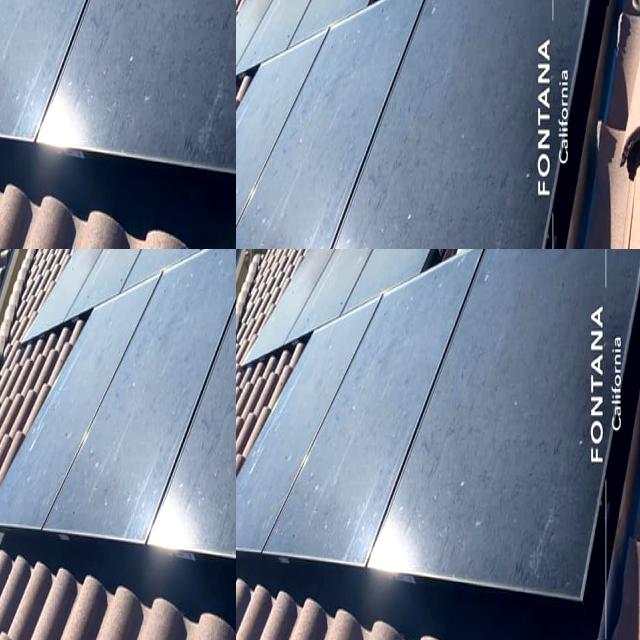dust: (489, 249, 577, 592), (383, 342, 473, 557), (288, 378, 367, 550), (305, 249, 405, 277), (390, 249, 448, 293)
hotspot: (19, 385, 100, 523), (21, 0, 82, 47)
